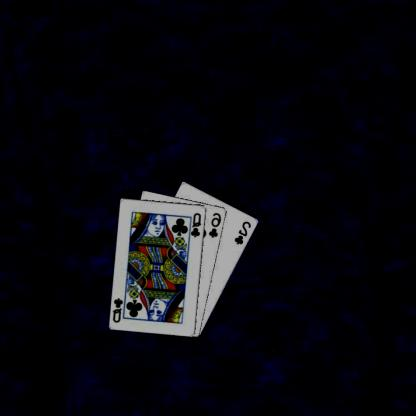2C: (234, 218, 254, 246)
6C: (208, 210, 224, 238)
QC: (190, 210, 204, 238), (112, 296, 126, 324)
